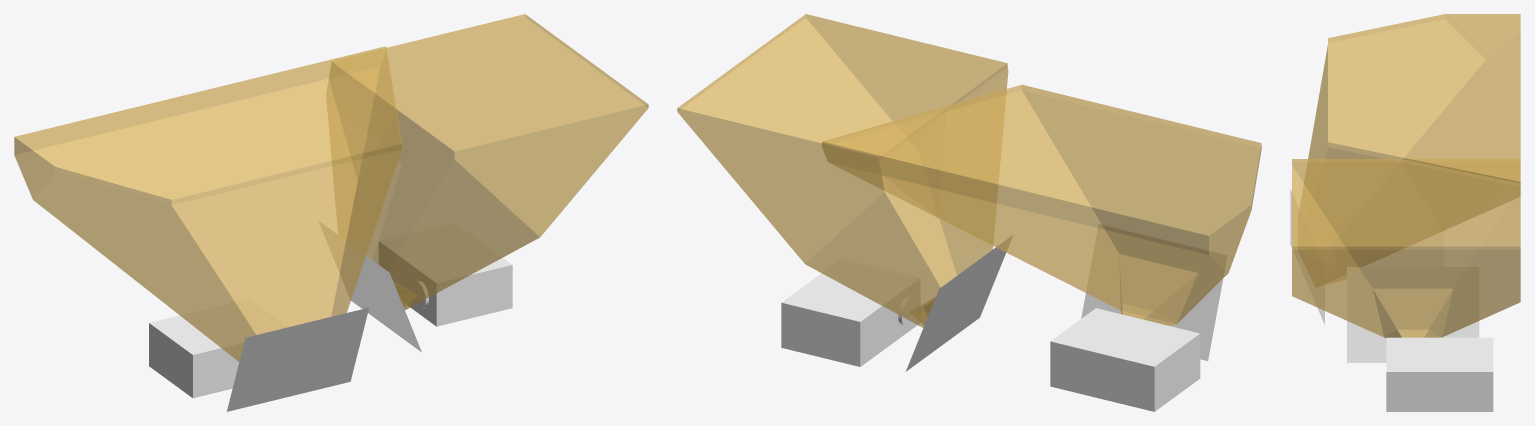
The model's file is projectors.fbx.
3 renders of one model, left to right at view 1: azimuth 30°, elevation 25°; view 2: azimuth 150°, elevation 25°; view 3: azimuth 270°, elevation 25°, orthographic. The views are drawn at different scales.
Visible parts, largest first — view 1: Group3, Group11, Group16, Group5, Group8, Group13; view 2: Group11, Group3, Group8, Group5, Group16, Group13, Group4; view 3: Group3, Group11, Group13, Group16, Group12, Group8, Group5.
Part boxes in pixels (x1,y1,x2,y2): Group3: [14, 46, 401, 361]; Group11: [326, 14, 648, 309]; Group16: [379, 223, 512, 326]; Group5: [227, 307, 368, 411]; Group8: [149, 299, 286, 398]; Group13: [319, 221, 421, 352]; Group11: [677, 14, 1008, 327]; Group3: [822, 84, 1261, 323]; Group8: [1050, 308, 1200, 411]; Group5: [1081, 224, 1226, 360]; Group16: [781, 259, 920, 366]; Group13: [905, 235, 1012, 371]; Group4: [1119, 254, 1197, 325]; Group3: [1298, 14, 1520, 286]; Group11: [1292, 159, 1520, 337]; Group13: [1347, 267, 1479, 362]; Group16: [1386, 337, 1493, 411]; Group12: [1373, 289, 1452, 338]; Group8: [1364, 231, 1443, 266]; Group5: [1290, 189, 1324, 324].
Size of the model in its own units: 1.48 by 0.6196 by 0.6247.
